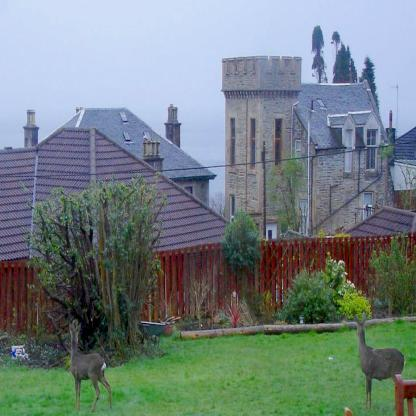Deer: (352, 307, 406, 412), (68, 317, 115, 414)
